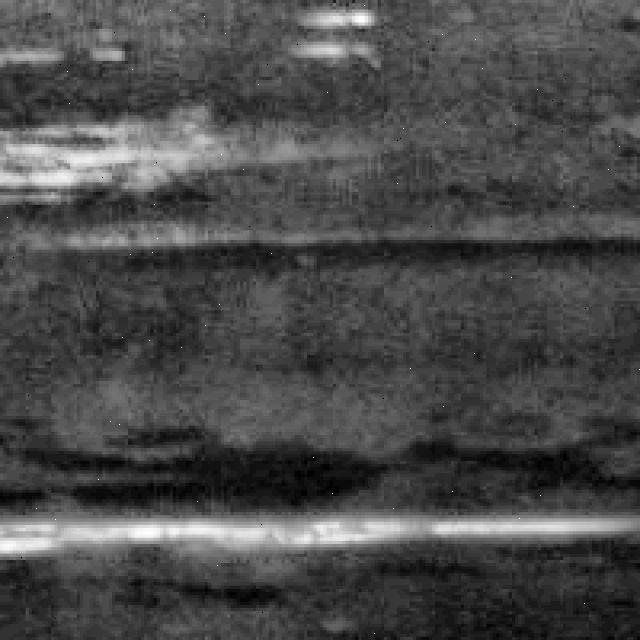Inclusion: (7, 490, 630, 560)
